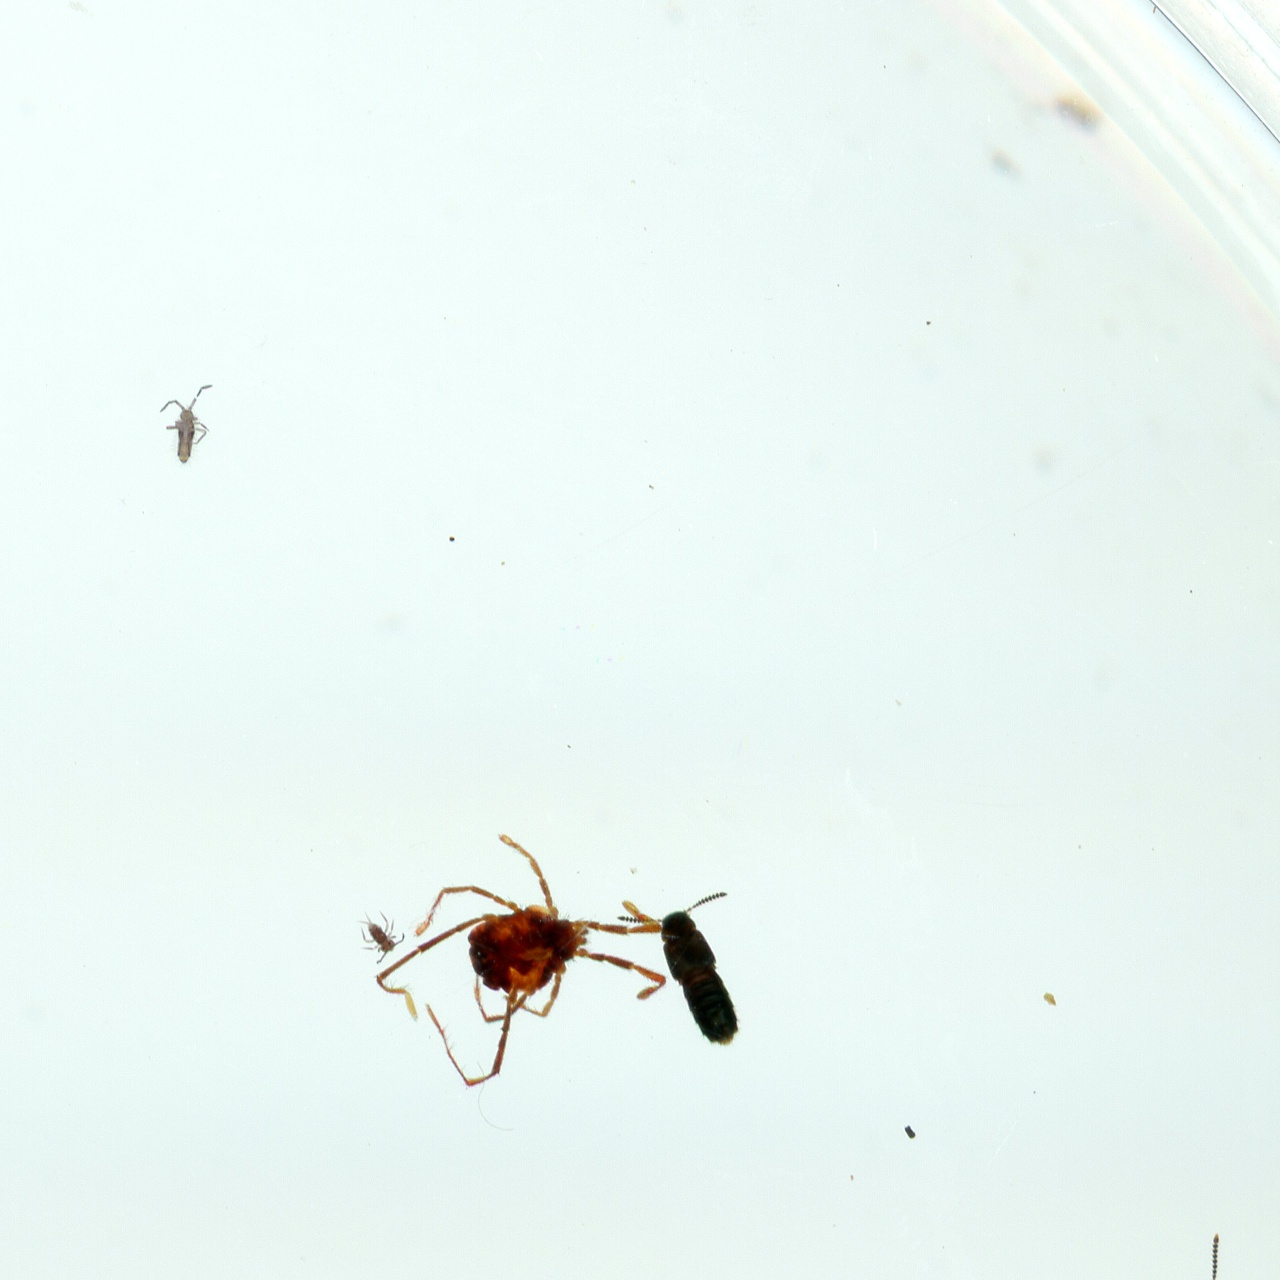arthropod: (348, 799, 690, 1105), (610, 876, 779, 1078), (1114, 1208, 1280, 1280), (151, 369, 225, 475), (339, 896, 411, 969)
